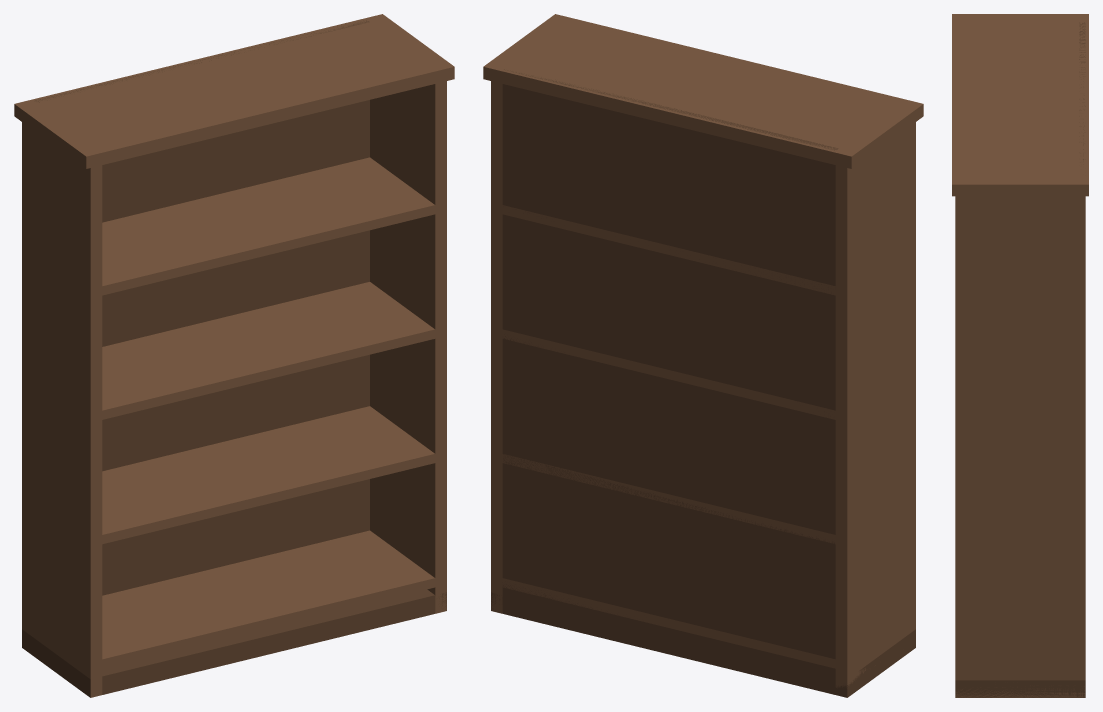
File: cab_open_shelf.glb
3 renders of one model, left to right at view 1: azimuth 30°, elevation 25°; view 2: azimuth 150°, elevation 25°; view 3: azimuth 270°, elevation 25°, orthographic. The views are drawn at different scales.
Parts seen in each view (by area): view 1: cab_open_shelf; view 2: cab_open_shelf; view 3: cab_open_shelf.
Part boxes in pixels (x1=…): cab_open_shelf: x1=14, y1=14, x2=454, y2=697; cab_open_shelf: x1=483, y1=14, x2=923, y2=697; cab_open_shelf: x1=952, y1=14, x2=1088, y2=697.
Bounding box in the file's own units: 1.24 × 1.75 × 0.42.
